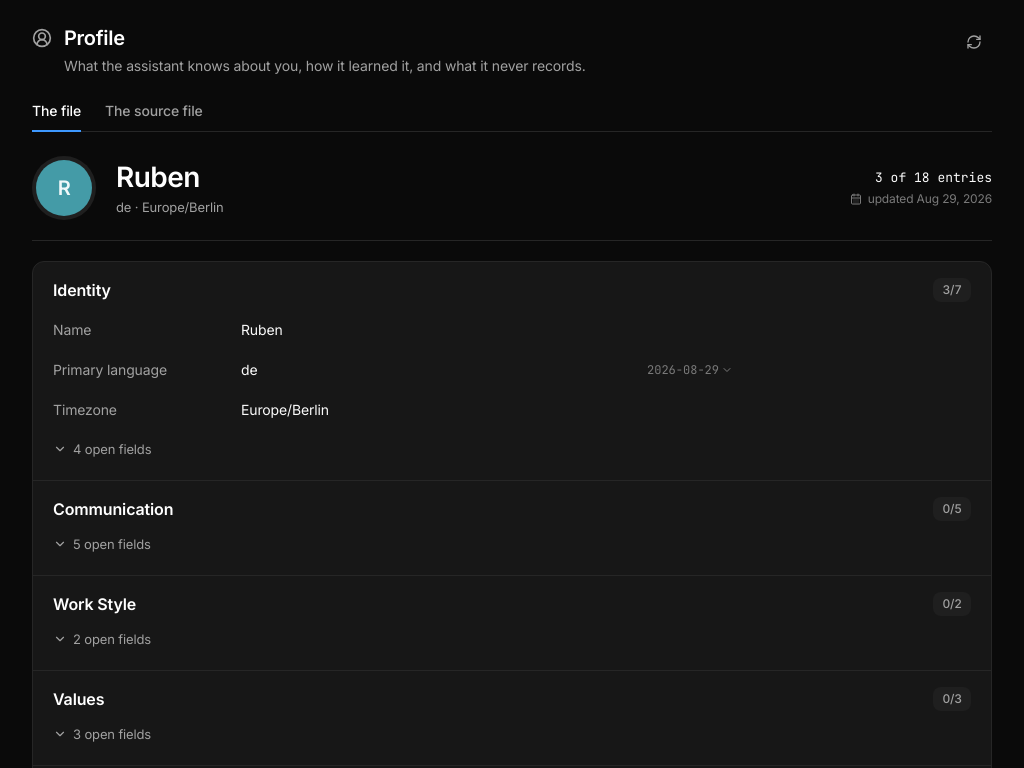
the file states facts and folds gaps › opens a cluster's gaps on demand
Expected: the text "Verbosity" is not shown
Click the button with test id "gaps-communication".
click(112, 544)  # box [45,529,781,559]
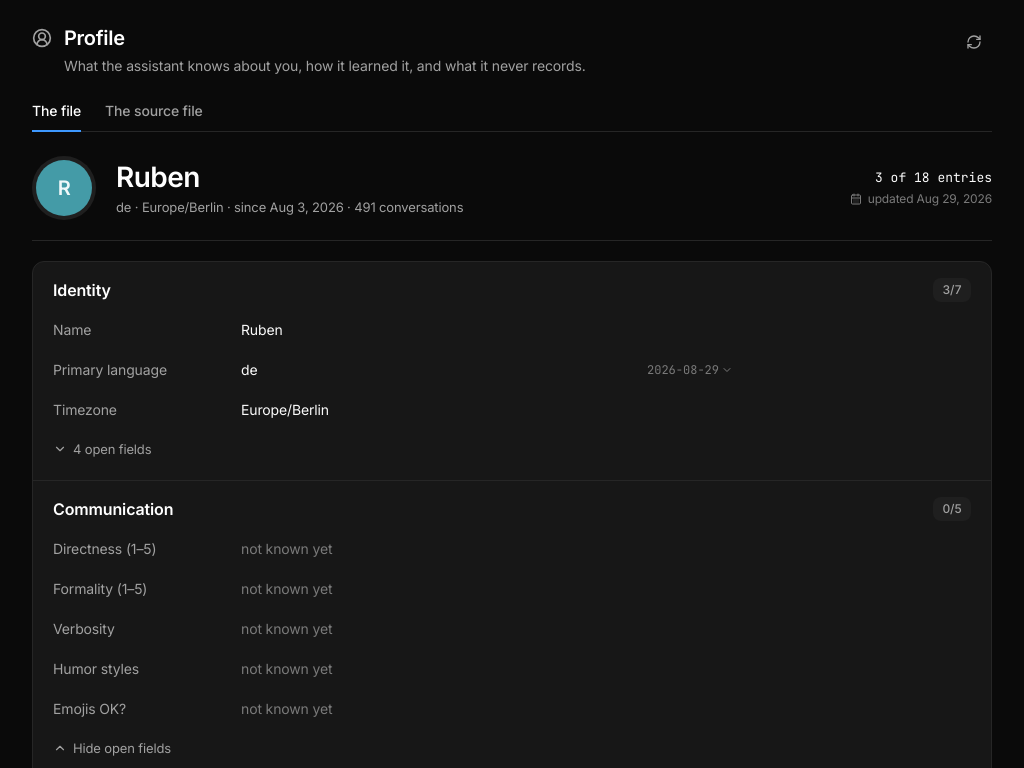
Expected: the text "Verbosity" is shown, [53,620,115,637]
